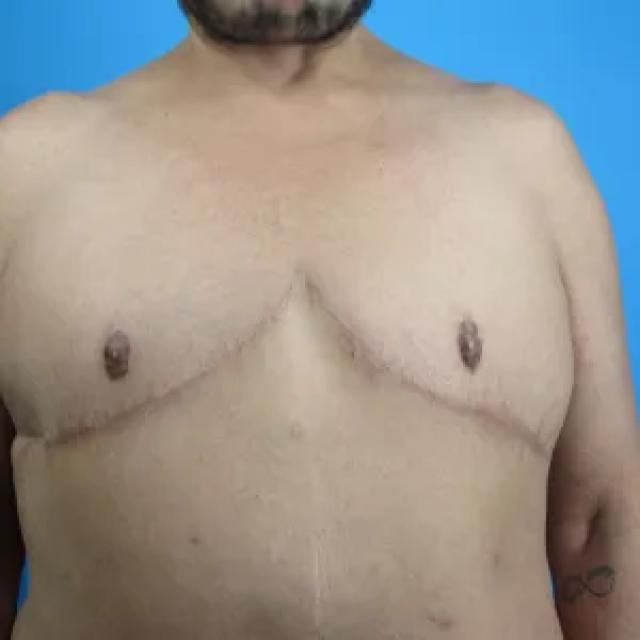Seno herido: (0, 216, 299, 454), (309, 212, 579, 456)
